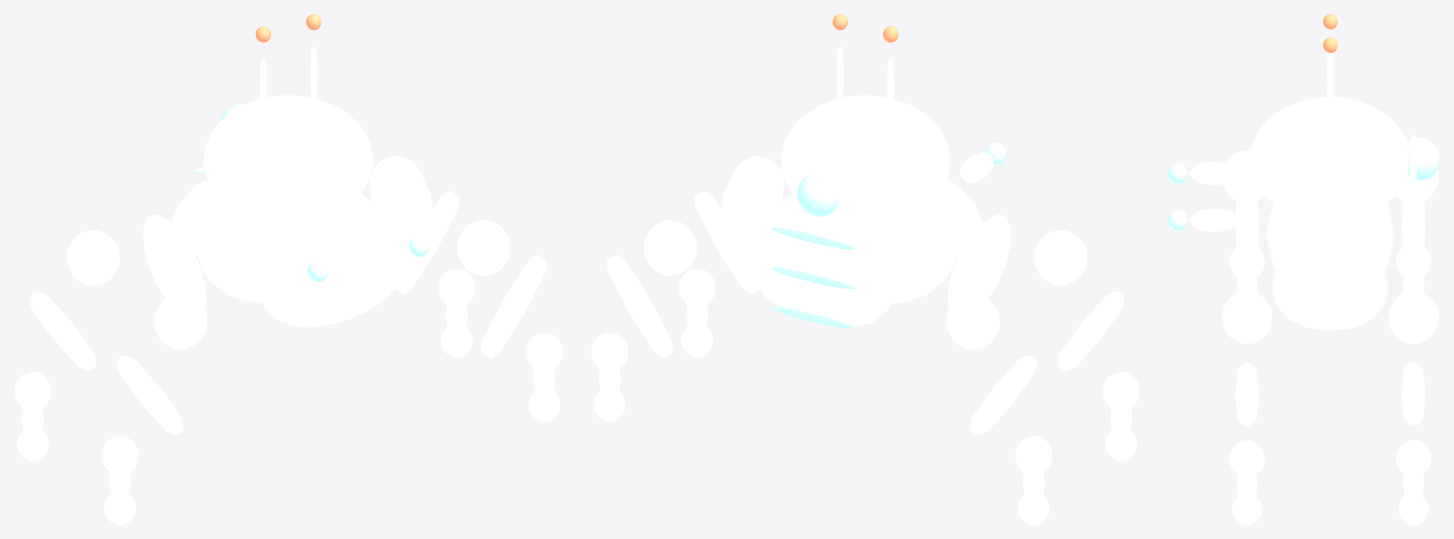
The model's file is v3_rogueprocess_v3.glb.
3 views of the same model, side by side, from view 1: azimuth 30°, elevation 25°; view 2: azimuth 150°, elevation 25°; view 3: azimuth 270°, elevation 25° (orthographic). The views are drawn at different scales.
Parts seen in each view (by area): view 1: rp_dome, rp_pl_b, rp_body, rp_pl_r, rp_pl_l, rp_ul_3, rp_hip_2, rp_hip_3, rp_hip_0, rp_ul_0, rp_ul_2, rp_pl_f (+11 smaller); view 2: rp_dome, rp_pl_f, rp_body, rp_pl_r, rp_pl_l, rp_ul_1, rp_hip_0, rp_hip_1, rp_hip_2, rp_ul_2, rp_ul_0, rp_pl_b (+14 smaller); view 3: rp_dome, rp_pl_r, rp_body, rp_hip_3, rp_hip_1, rp_pl_b, rp_pl_f, rp_ul_1, rp_ul_3, rp_kn_1, rp_kn_3, rp_hip_2 (+16 smaller).
Boxes of the visible parts, <box> form: rp_dome: <box>204,95,372,225</box>; rp_pl_b: <box>258,215,406,327</box>; rp_body: <box>196,193,377,303</box>; rp_pl_r: <box>370,155,433,268</box>; rp_pl_l: <box>143,214,206,309</box>; rp_ul_3: <box>480,255,547,358</box>; rp_hip_2: <box>154,294,207,349</box>; rp_hip_3: <box>457,220,510,275</box>; rp_hip_0: <box>66,230,119,285</box>; rp_ul_0: <box>29,291,96,370</box>; rp_ul_2: <box>117,355,183,434</box>; rp_pl_f: <box>171,179,221,255</box>; rp_dome: <box>781,95,949,225</box>; rp_pl_f: <box>747,215,895,326</box>; rp_body: <box>776,193,957,303</box>; rp_pl_r: <box>720,155,783,268</box>; rp_pl_l: <box>947,214,1010,309</box>; rp_ul_1: <box>606,255,673,358</box>; rp_hip_0: <box>946,294,999,349</box>; rp_hip_1: <box>643,220,696,275</box>; rp_hip_2: <box>1034,230,1087,285</box>; rp_ul_2: <box>1057,291,1124,370</box>; rp_ul_0: <box>970,355,1036,434</box>; rp_pl_b: <box>932,179,982,255</box>; rp_dome: <box>1250,97,1408,219</box>; rp_pl_r: <box>1272,243,1388,330</box>; rp_body: <box>1266,203,1394,270</box>; rp_hip_3: <box>1222,291,1272,343</box>; rp_hip_1: <box>1388,291,1438,343</box>; rp_pl_b: <box>1236,176,1257,291</box>; rp_pl_f: <box>1403,177,1424,291</box>; rp_ul_1: <box>1401,362,1425,426</box>; rp_ul_3: <box>1235,362,1258,426</box>; rp_kn_1: <box>1396,440,1431,477</box>; rp_kn_3: <box>1229,440,1264,477</box>; rp_hip_2: <box>1223,150,1264,202</box>.
Bounding box in the file's own units: 1.81 × 1.59 × 0.9799.
